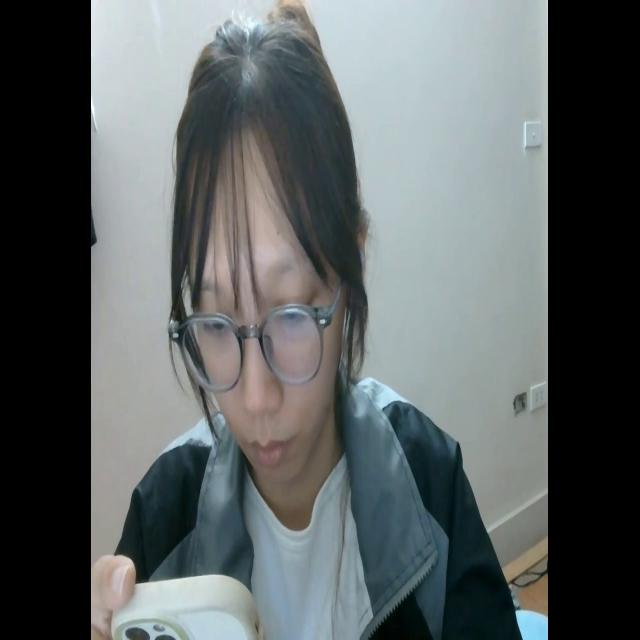phone: (109, 560, 268, 640)
student: (96, 0, 522, 640)
